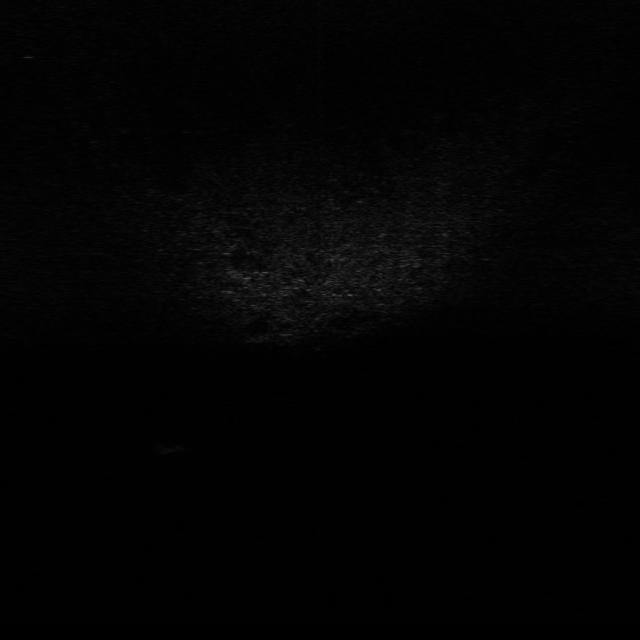cube: (150, 429, 200, 455)
